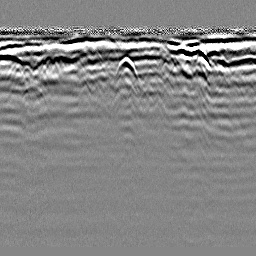cavity: (115, 53, 140, 85)
